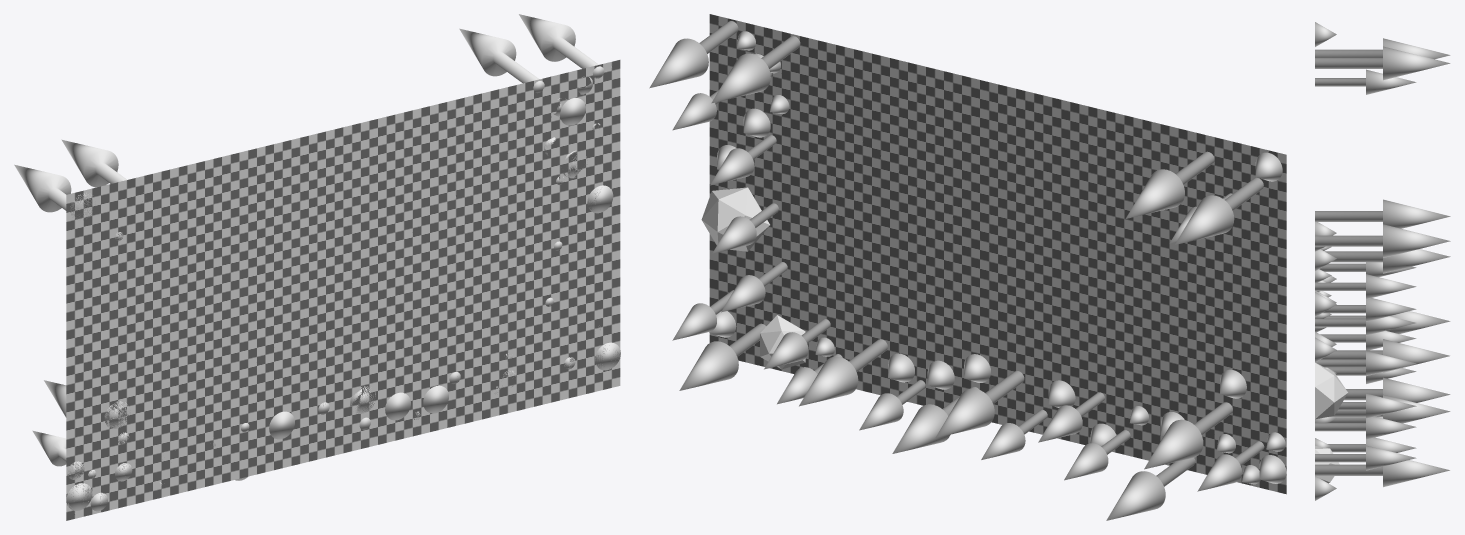
File: forest09.dae
3 views of the same model, side by side, from view 1: azimuth 30°, elevation 25°; view 2: azimuth 150°, elevation 25°; view 3: azimuth 270°, elevation 25° (orthographic). The views are drawn at different scales.
Visible parts, largest first — view 1: Plane.005, Cone.067, Cone.269, Cone.205, Cone.240, Cone.245; view 2: Plane.005, Cone.246, Cone.265, Cone.269, Cone.271, Cone.067, Cone.205, Cone.240, Cone.235, Cone.275, Icosphere.005, Cone.267 (+13 smaller); view 3: Cone.067, Cone.205, Cone.269, Cone.275, Cone.246, Cone.265, Icosphere.005, Cone.267, Cone.280, Cone.240, Cone.282, Cone.272 (+19 smaller).
Part boxes in pixels (x1=…): Plane.005: x1=66, y1=60, x2=620, y2=520; Cone.067: x1=519, y1=14, x2=604, y2=78; Cone.269: x1=459, y1=28, x2=544, y2=93; Cone.205: x1=61, y1=139, x2=126, y2=187; Cone.240: x1=14, y1=164, x2=71, y2=212; Cone.245: x1=32, y1=430, x2=96, y2=478; Plane.005: x1=709, y1=14, x2=1286, y2=494; Cone.246: x1=1144, y1=402, x2=1232, y2=469; Cone.265: x1=935, y1=371, x2=1024, y2=437; Cone.269: x1=711, y1=36, x2=800, y2=103; Cone.271: x1=799, y1=339, x2=887, y2=406; Cone.067: x1=649, y1=21, x2=738, y2=88; Cone.205: x1=1125, y1=151, x2=1214, y2=218; Cone.240: x1=1175, y1=177, x2=1263, y2=244; Cone.235: x1=1106, y1=457, x2=1195, y2=520; Cone.275: x1=679, y1=323, x2=766, y2=390; Icosphere.005: x1=701, y1=187, x2=769, y2=251; Cone.267: x1=892, y1=387, x2=979, y2=453; Cone.067: x1=1315, y1=224, x2=1450, y2=257; Cone.205: x1=1315, y1=46, x2=1450, y2=80; Cone.269: x1=1315, y1=199, x2=1450, y2=228; Cone.275: x1=1315, y1=460, x2=1449, y2=487; Cone.246: x1=1325, y1=249, x2=1450, y2=273; Cone.265: x1=1321, y1=339, x2=1449, y2=372; Icosphere.005: x1=1315, y1=362, x2=1347, y2=419; Cone.267: x1=1344, y1=377, x2=1450, y2=402; Cone.280: x1=1315, y1=445, x2=1416, y2=470; Cone.240: x1=1315, y1=38, x2=1450, y2=59; Cone.282: x1=1315, y1=274, x2=1416, y2=299; Cone.272: x1=1315, y1=416, x2=1416, y2=439.
Bounding box in the file's own units: 64.07 × 16 × 38.05.
Materials: 3 (1 with a texture image).
